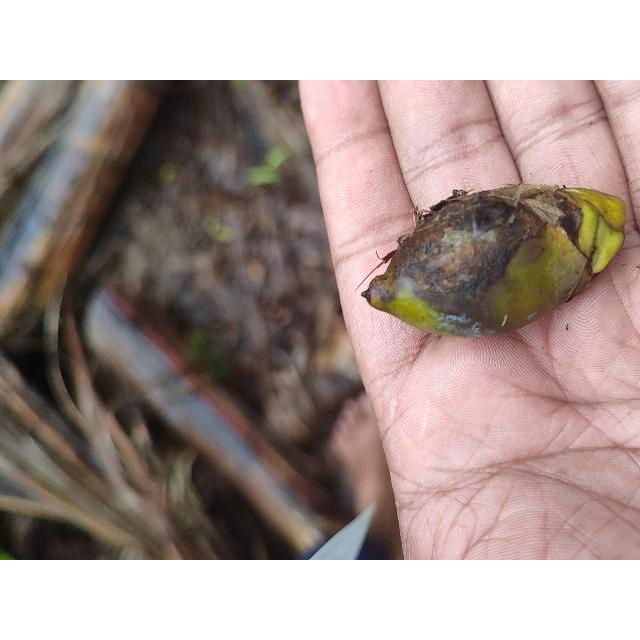damaged: (360, 185, 629, 339)
